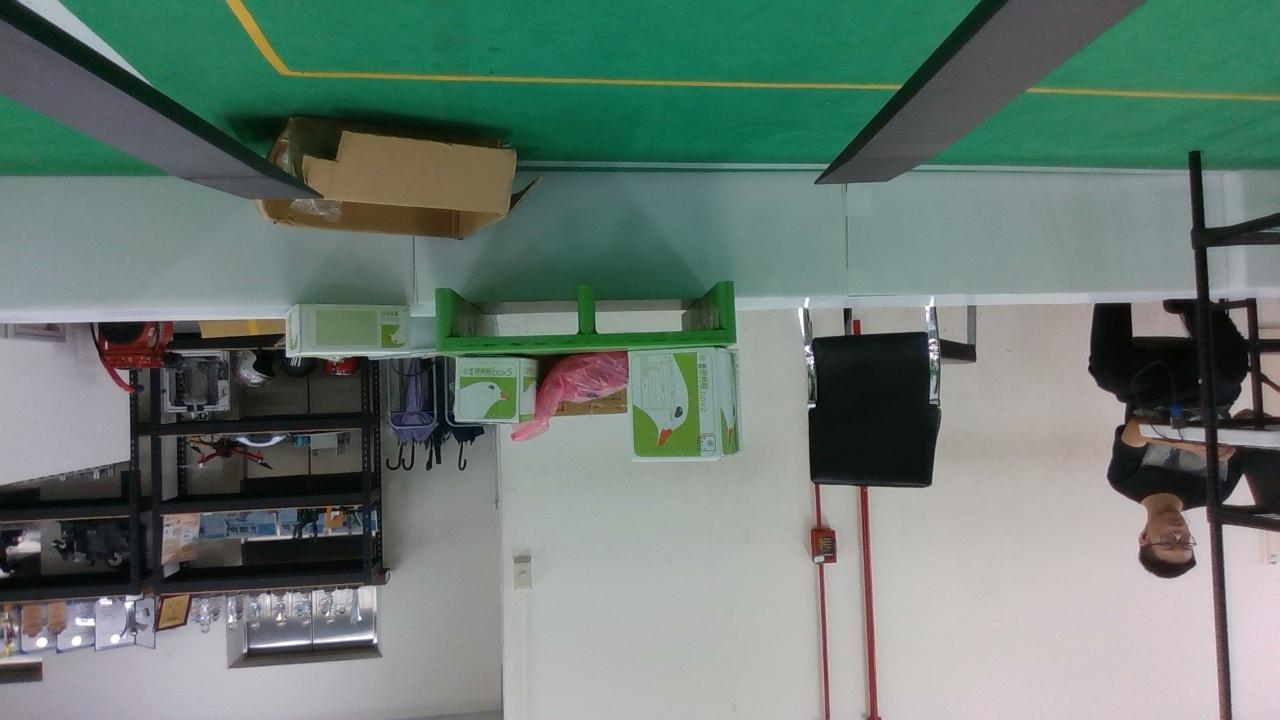Pallet: (436, 281, 740, 354)
